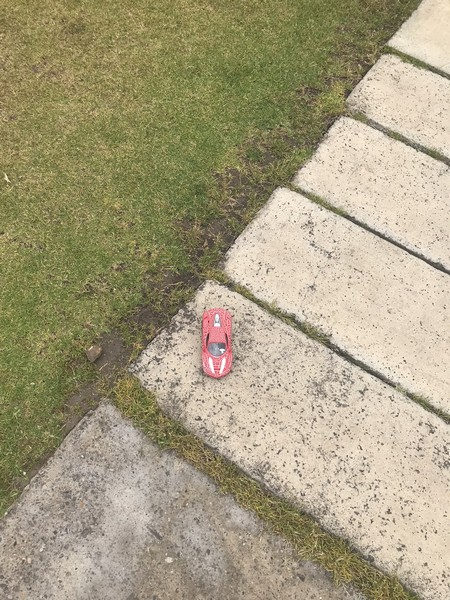RC: (199, 308, 235, 378)
